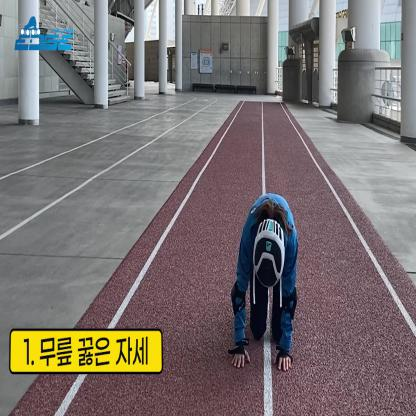Fall_Down: (232, 190, 300, 375)
